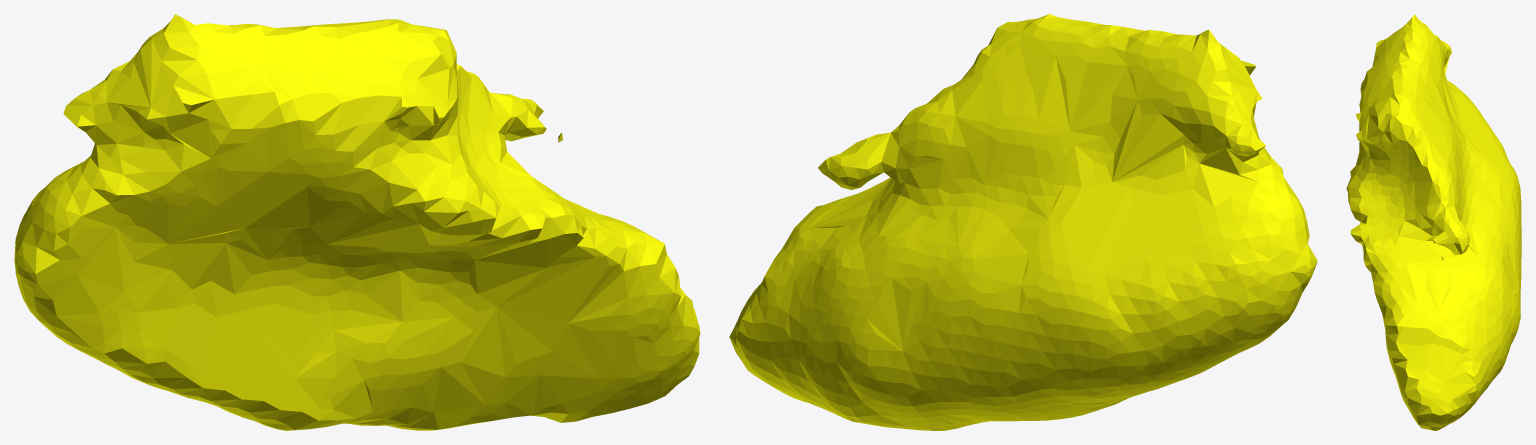
Rendered from Model_21_RH__Olfactry_tubercle_(Tu).obj.
The picture shows the model from 3 angles, left to right: view 1: azimuth 30°, elevation 25°; view 2: azimuth 150°, elevation 25°; view 3: azimuth 270°, elevation 25°; orthographic projection. The views are drawn at different scales.
Bounding box in the file's own units: 3.46 × 2.56 × 1.42.
